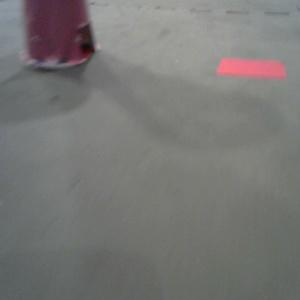middle: (20, 1, 101, 71)
